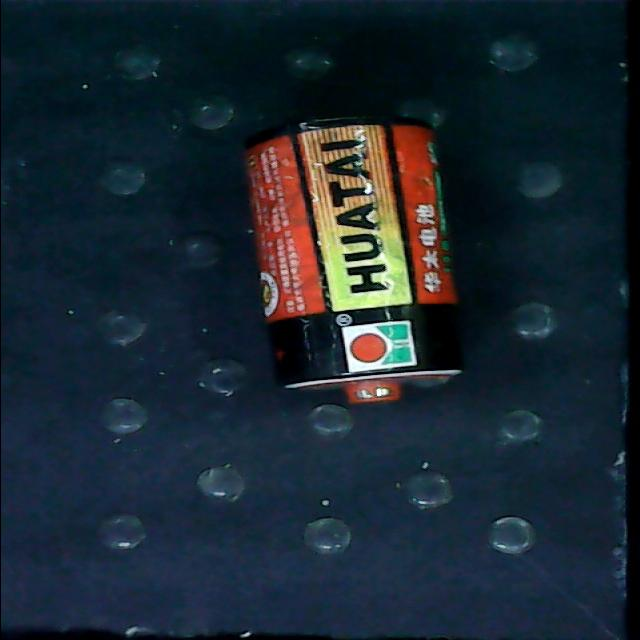-Hazardous waste - battery-: (246, 114, 464, 404)
